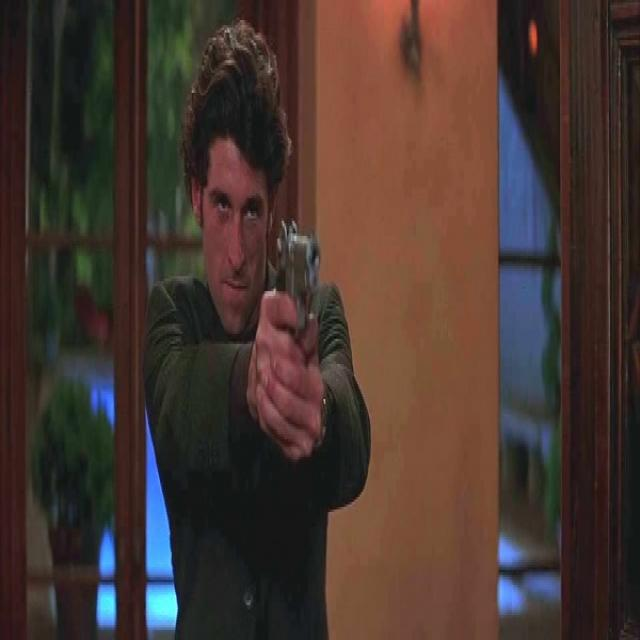weapons: (267, 209, 329, 396)
